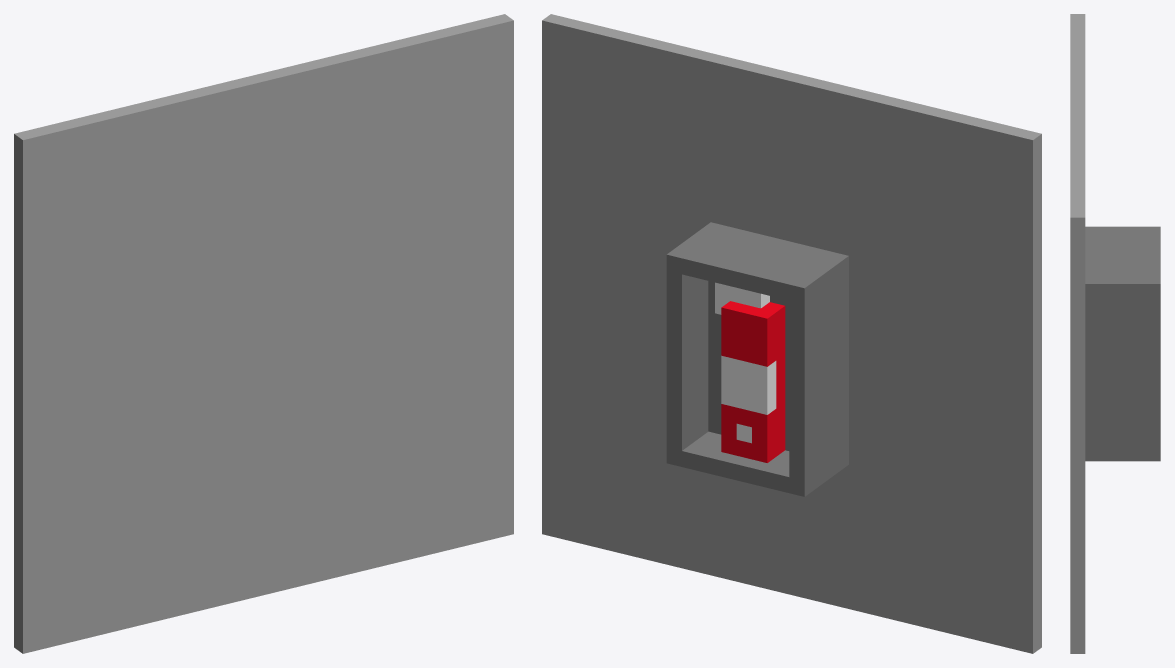
Rendered from Extinguisher.fbx.
3 renders of one model, left to right at view 1: azimuth 30°, elevation 25°; view 2: azimuth 150°, elevation 25°; view 3: azimuth 270°, elevation 25°, orthographic. The views are drawn at different scales.
Visible parts, largest first — view 1: Extinguisher; view 2: Extinguisher; view 3: Extinguisher.
Part boxes in pixels (x1,y1,x2,y2): Extinguisher: [14, 14, 513, 653]; Extinguisher: [542, 14, 1041, 653]; Extinguisher: [1070, 14, 1160, 653].
Size of the model in its own units: 3200 by 3200 by 600.
